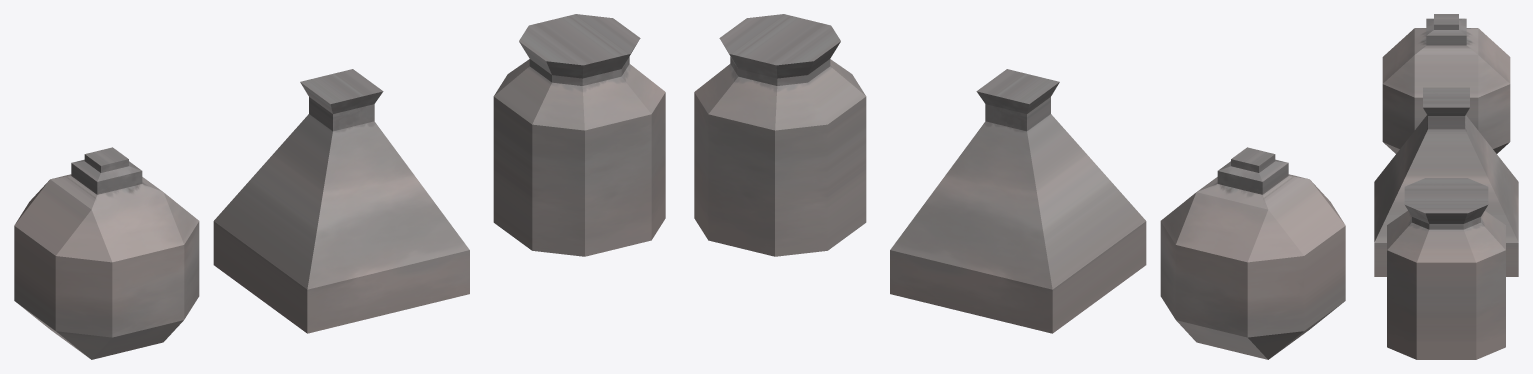
Rendered from 3dmodel_flasks_v1_sc.fbx.
3 views of the same model, side by side, from view 1: azimuth 30°, elevation 25°; view 2: azimuth 150°, elevation 25°; view 3: azimuth 270°, elevation 25° (orthographic). The views are drawn at different scales.
Visible parts, largest first — view 1: flasks; view 2: flasks; view 3: flasks.
Boxes of the visible parts, x1,y1,x2,y2 form: flasks: (14,14,665,359); flasks: (694,14,1345,359); flasks: (1374,14,1518,359).
Size of the model in its own units: 0.512 by 0.1544 by 0.136.
